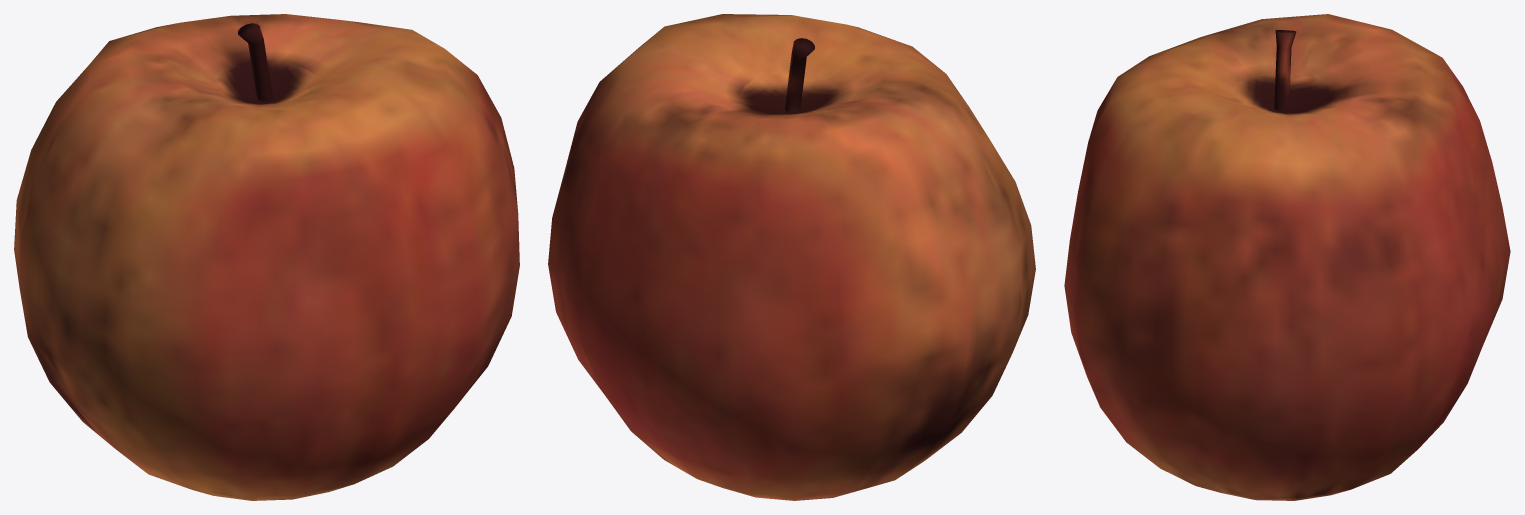
The model's file is SM_Apple_02.fbx.
The picture shows the model from 3 angles, left to right: view 1: azimuth 30°, elevation 25°; view 2: azimuth 150°, elevation 25°; view 3: azimuth 270°, elevation 25°; orthographic projection. The views are drawn at different scales.
Visible parts, largest first — view 1: SM_Apple_02_LOD0; view 2: SM_Apple_02_LOD0; view 3: SM_Apple_02_LOD0.
Boxes of the visible parts, box(x1,y1,x2,y2) form: SM_Apple_02_LOD0: box(14, 14, 519, 500); SM_Apple_02_LOD0: box(548, 14, 1035, 500); SM_Apple_02_LOD0: box(1064, 14, 1510, 500).
Bounding box in the file's own units: 12.95 × 11.73 × 12.57.
